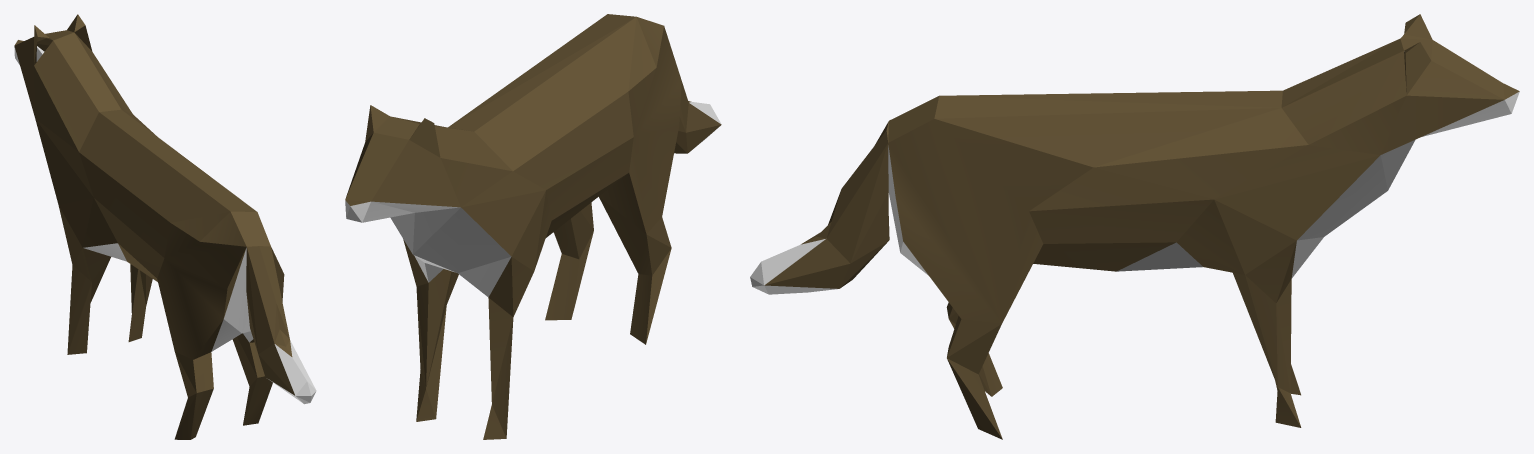
The model's file is Wolf.fbx.
3 views of the same model, side by side, from view 1: azimuth 30°, elevation 25°; view 2: azimuth 150°, elevation 25°; view 3: azimuth 270°, elevation 25° (orthographic). The views are drawn at different scales.
Visible parts, largest first — view 1: pPlane3; view 2: pPlane3; view 3: pPlane3.
Boxes of the visible parts, box(x1,y1,x2,y2) form: pPlane3: box(14, 14, 316, 439); pPlane3: box(345, 14, 721, 439); pPlane3: box(750, 14, 1519, 439).
Bounding box in the file's own units: 17.75 × 55.92 × 101.
